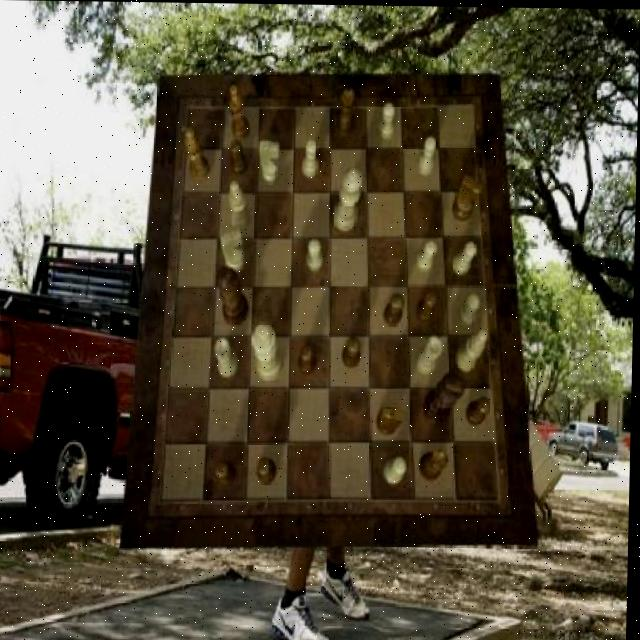bishop: (185, 127, 210, 182), (229, 84, 252, 142)
black-bishop: (424, 370, 467, 424)
black-king: (452, 173, 483, 220), (377, 404, 407, 436)
black-knight: (416, 289, 438, 324), (467, 396, 493, 424), (383, 292, 404, 326), (230, 138, 248, 176), (342, 336, 362, 369), (217, 460, 240, 486), (301, 344, 319, 375), (259, 457, 278, 483)
black-pawn: (217, 266, 251, 326)
black-queen: (420, 448, 451, 481), (337, 87, 355, 136)
black-rook: (457, 327, 488, 369), (229, 180, 252, 229)
white-bishop: (252, 323, 284, 382)
white-king: (220, 227, 247, 271), (259, 138, 281, 184)
white-knight: (453, 239, 477, 274), (458, 291, 481, 326), (418, 136, 436, 174), (301, 139, 319, 177), (386, 455, 409, 483), (417, 239, 437, 271), (307, 237, 325, 270), (379, 103, 395, 139)
white-pawn: (335, 165, 363, 231)
white-queen: (417, 334, 443, 373), (215, 337, 240, 377)
